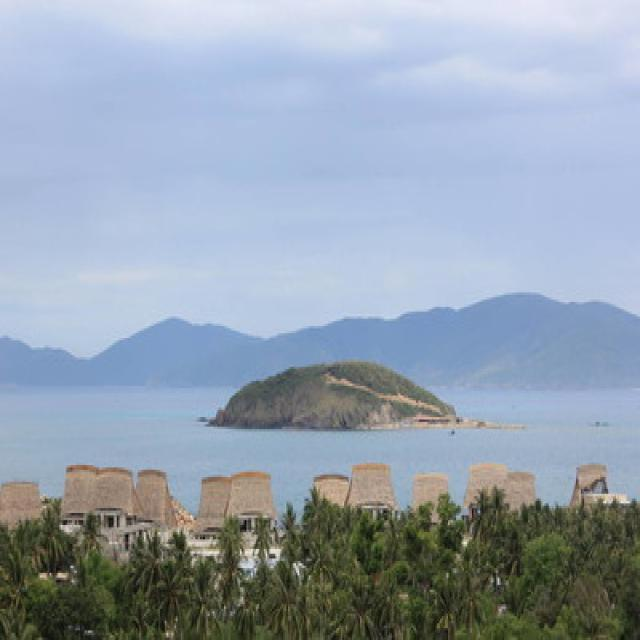island: (208, 353, 473, 439)
